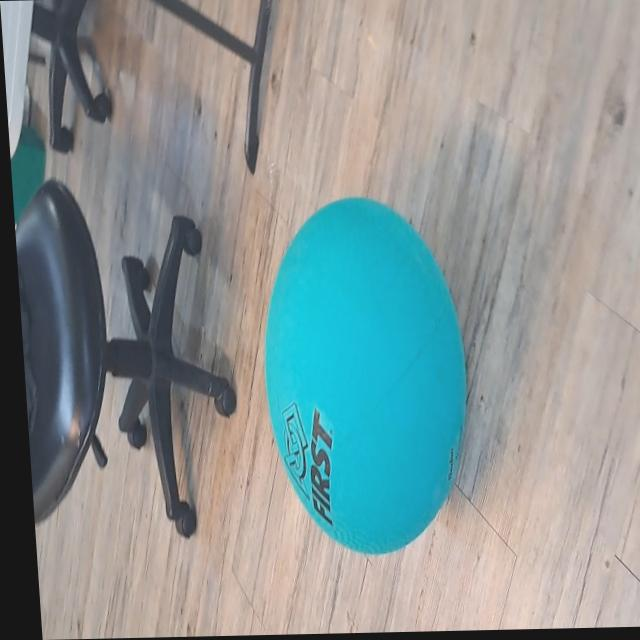ALGAE: (251, 192, 480, 559)
